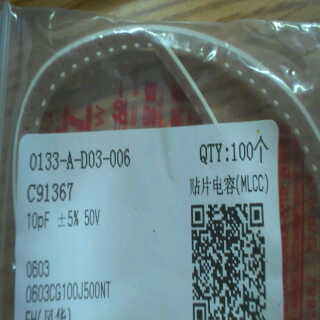10pF: (24, 205, 52, 231)
